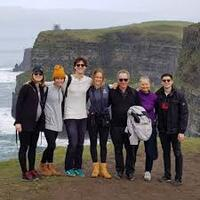person: (109, 62, 140, 94), (156, 70, 182, 103), (133, 68, 158, 102), (68, 49, 90, 86), (45, 60, 67, 95), (91, 64, 112, 99), (25, 64, 45, 97)
